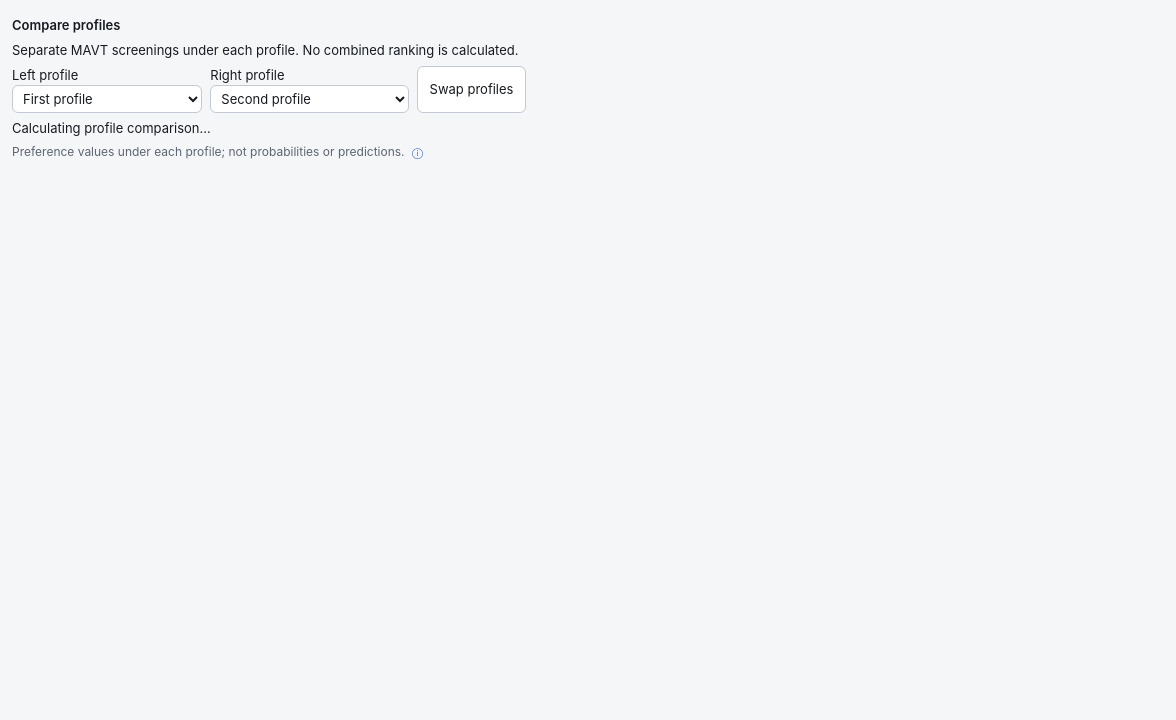
it: drops a late response for the previous ordered pair (success)
Click the button "Swap profiles": (471, 89) [416,66,526,112]
Wait 125 ms
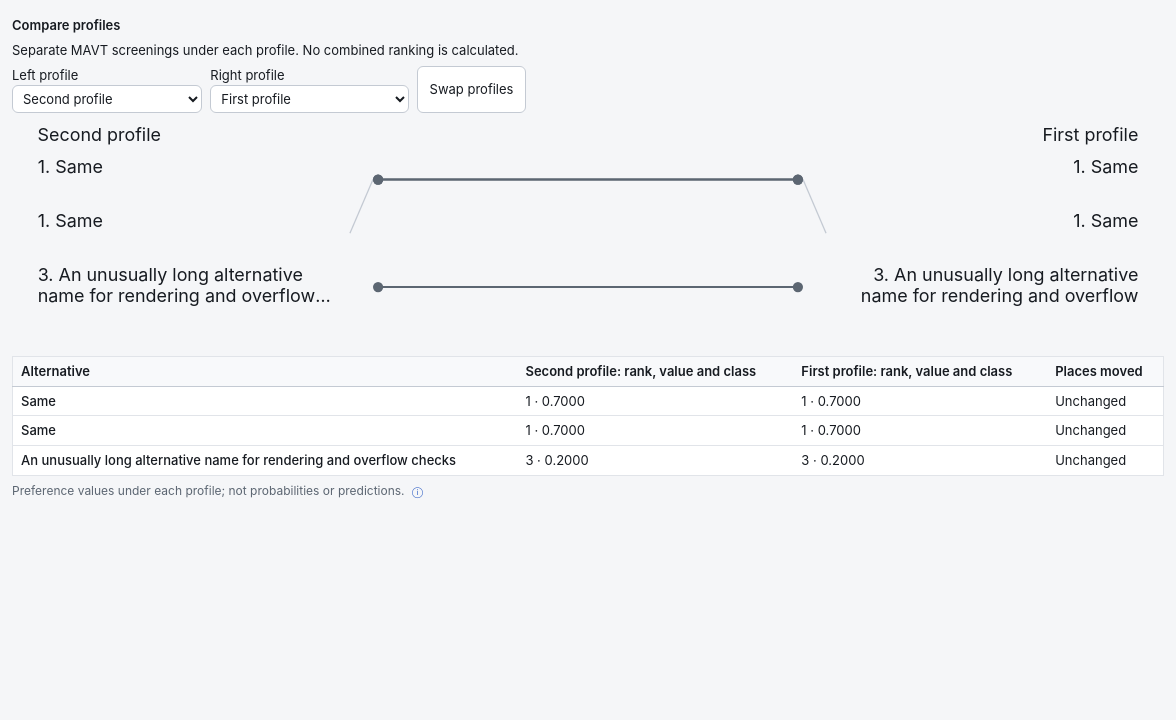
Now the column heading "Second profile: rank, value and class" is shown, box [517,356,793,386]
Now the message "Calculating profile comparison…" is gone
